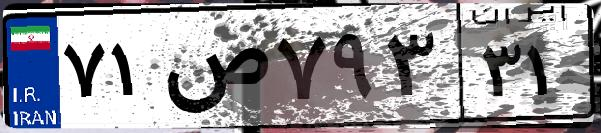1: (525, 38, 570, 115), (110, 28, 158, 98)
3: (385, 28, 445, 110), (475, 38, 525, 113)
7: (270, 28, 330, 110), (57, 26, 110, 100)
9: (330, 28, 385, 110)
ص: (158, 20, 270, 120)
